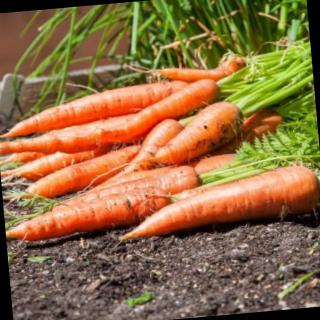Wortel: (1, 76, 227, 161), (115, 165, 320, 244), (1, 78, 198, 139), (4, 181, 180, 248), (146, 96, 253, 168)
